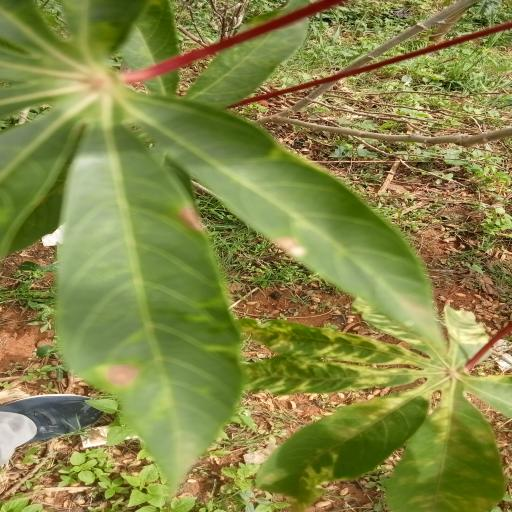Cassava_Brown_Leaf_Spot: (0, 1, 453, 485)
